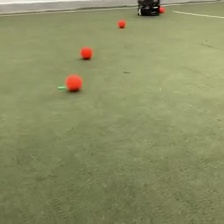ball: (66, 72, 82, 92), (80, 45, 93, 60), (118, 18, 126, 29), (160, 5, 167, 14)
robot: (136, 1, 160, 17)
